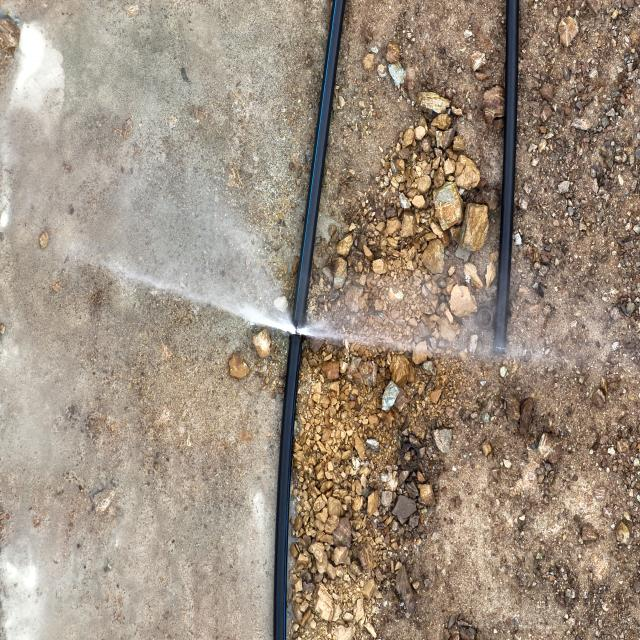leak: (53, 228, 562, 370)
